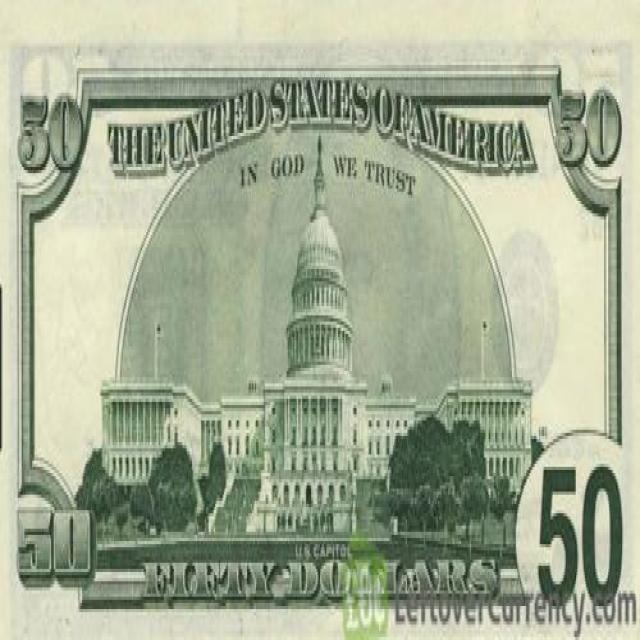50-Back: (6, 40, 640, 640)
